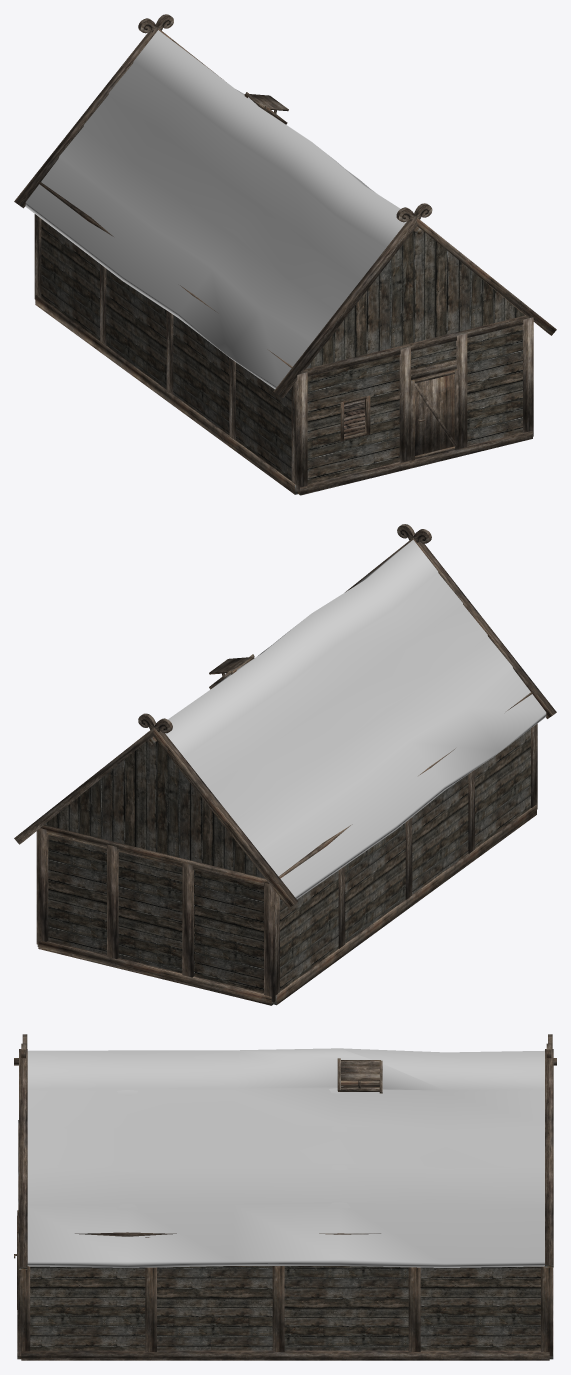
File: house2.fbx
The picture shows the model from 3 angles, top to bottom: view 1: azimuth 30°, elevation 25°; view 2: azimuth 150°, elevation 25°; view 3: azimuth 270°, elevation 25°; orthographic projection.
Visible parts, largest first — view 1: roof1, wall, wood1, door, floor, details; view 2: roof1, wall, wood1, details; view 3: roof1, wall, wood1.
Boxes of the visible parts, x1,y1,x2,y2 form: roof1: (25,30,406,389); wall: (41,219,524,484); wood1: (14,14,556,495); door: (411,369,458,460); floor: (344,399,364,436); details: (140,16,432,222); roof1: (165,540,546,899); wall: (44,729,530,993); wood1: (14,524,556,1005); details: (138,526,429,733); roof1: (27,1048,544,1267); wall: (30,1266,540,1350); wood1: (14,1034,556,1360).
Bounding box in the file's own units: 208 × 183 × 344.
